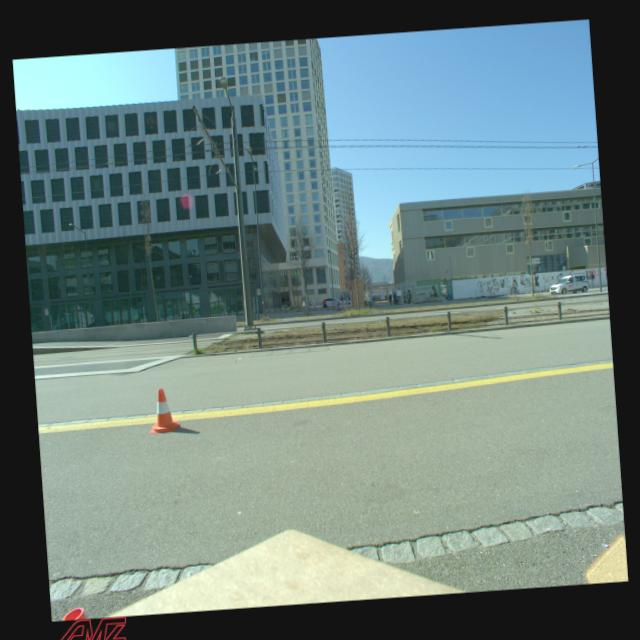orange_cone: (146, 386, 180, 434)
